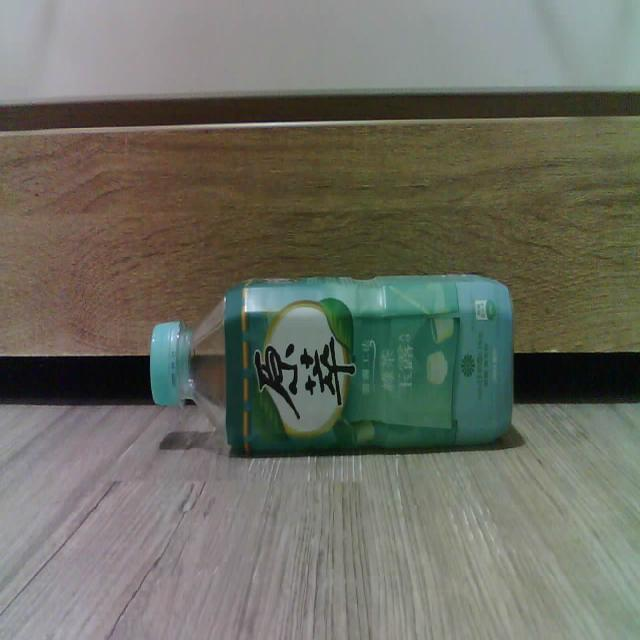bottle: (150, 275, 514, 453)
